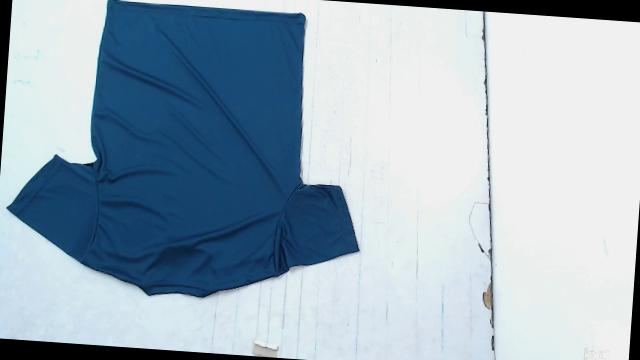new-garment: (7, 0, 357, 296)
